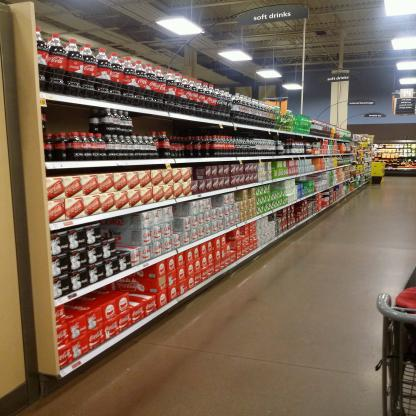Void: (49, 103, 91, 128), (112, 220, 136, 245), (168, 118, 204, 134), (176, 205, 188, 233), (137, 278, 152, 298), (138, 114, 150, 134), (213, 200, 220, 204)
